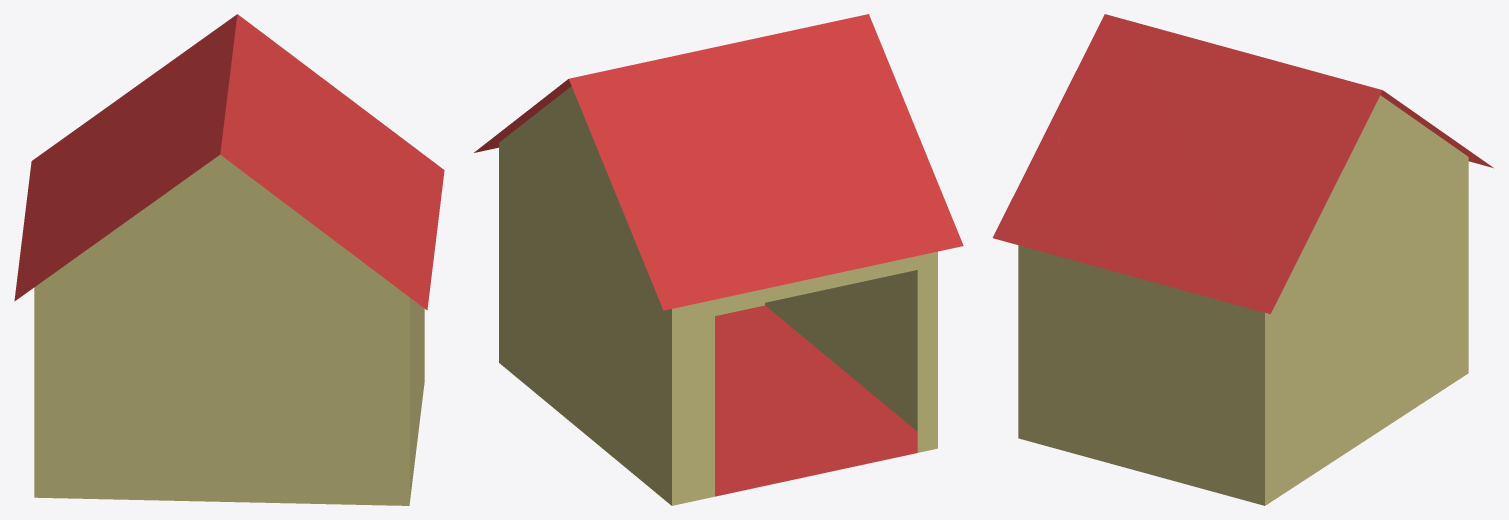
The picture shows the model from 3 angles, left to right: view 1: azimuth 30°, elevation 25°; view 2: azimuth 150°, elevation 25°; view 3: azimuth 270°, elevation 25°; orthographic projection.
Size of the model in its own units: 13.97 by 13.34 by 10.37.
